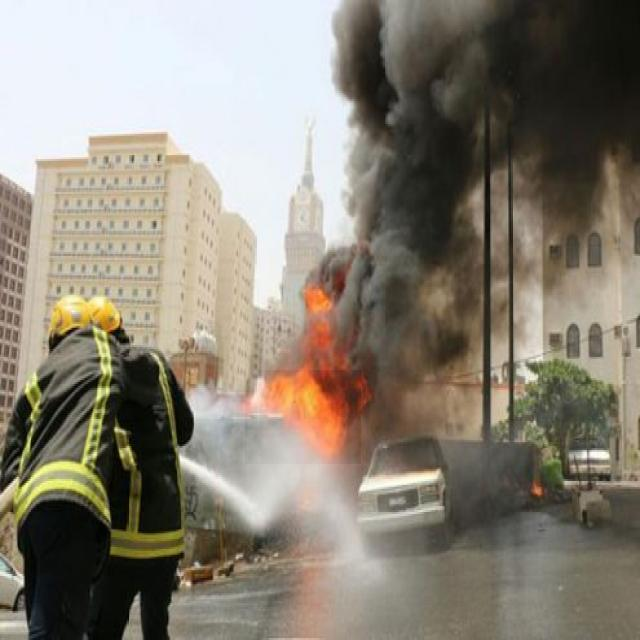Fire: (245, 279, 361, 464)
Smoke: (260, 0, 640, 370)
